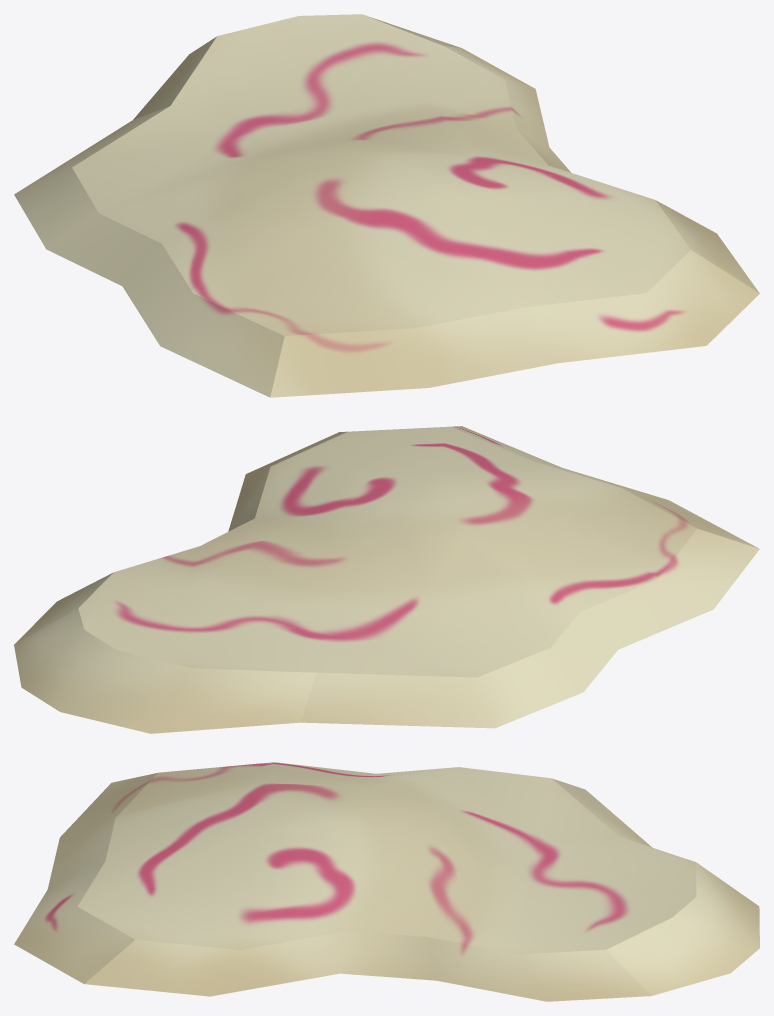
File: Gelato Blobpuddle.fbx
The picture shows the model from 3 angles, top to bottom: view 1: azimuth 30°, elevation 25°; view 2: azimuth 150°, elevation 25°; view 3: azimuth 270°, elevation 25°; orthographic projection. The views are drawn at different scales.
Visible parts, largest first — view 1: pCube23; view 2: pCube23; view 3: pCube23.
Part boxes in pixels (bbox=[...]): pCube23: bbox=[14, 14, 759, 397]; pCube23: bbox=[14, 426, 759, 733]; pCube23: bbox=[14, 762, 759, 1001].
Bounding box in the file's own units: 145 × 19.46 × 197.
